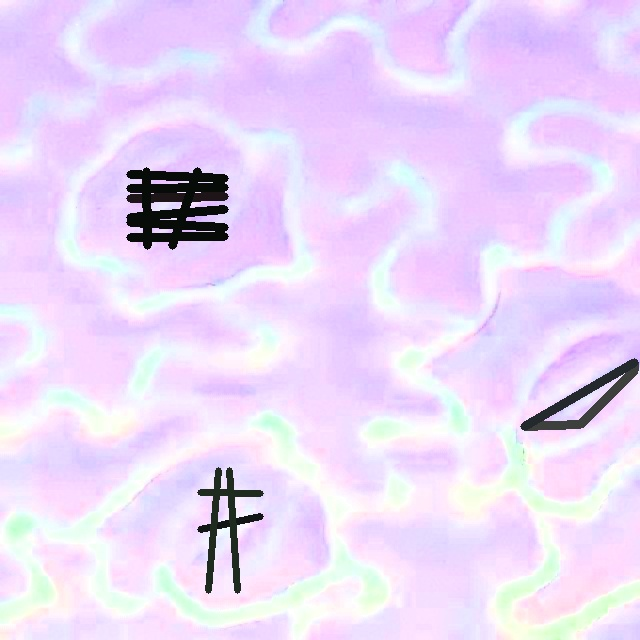open: (126, 167, 228, 249), (197, 467, 262, 593), (520, 359, 638, 428)
